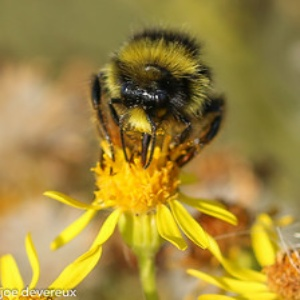bee: (84, 16, 226, 171)
